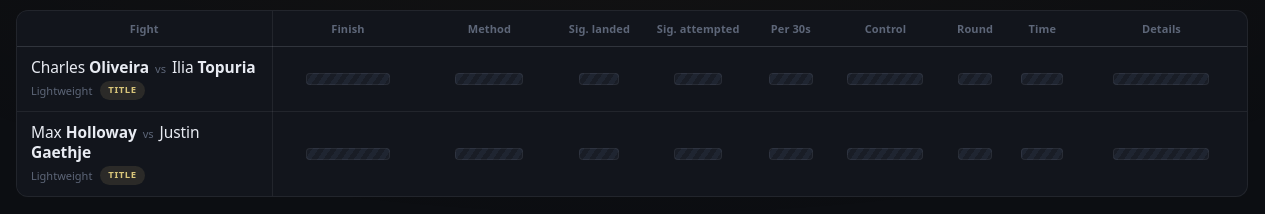
Test: column header reveal › clicking a column header reveals that column for every fight, others stay sealed
Click the button with aria-label "reveal finish for all fights".
click(348, 28)  # box 272,11 -> 424,46
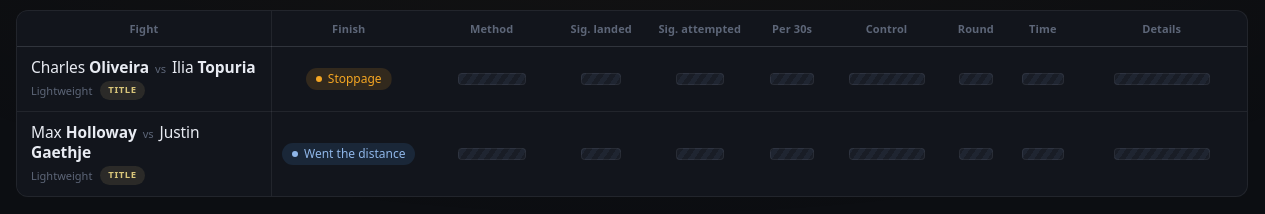
Result: the text "Stoppage" is shown at 306,68 -> 392,90
Result: the text "Went the distance" is shown at 282,143 -> 415,165
